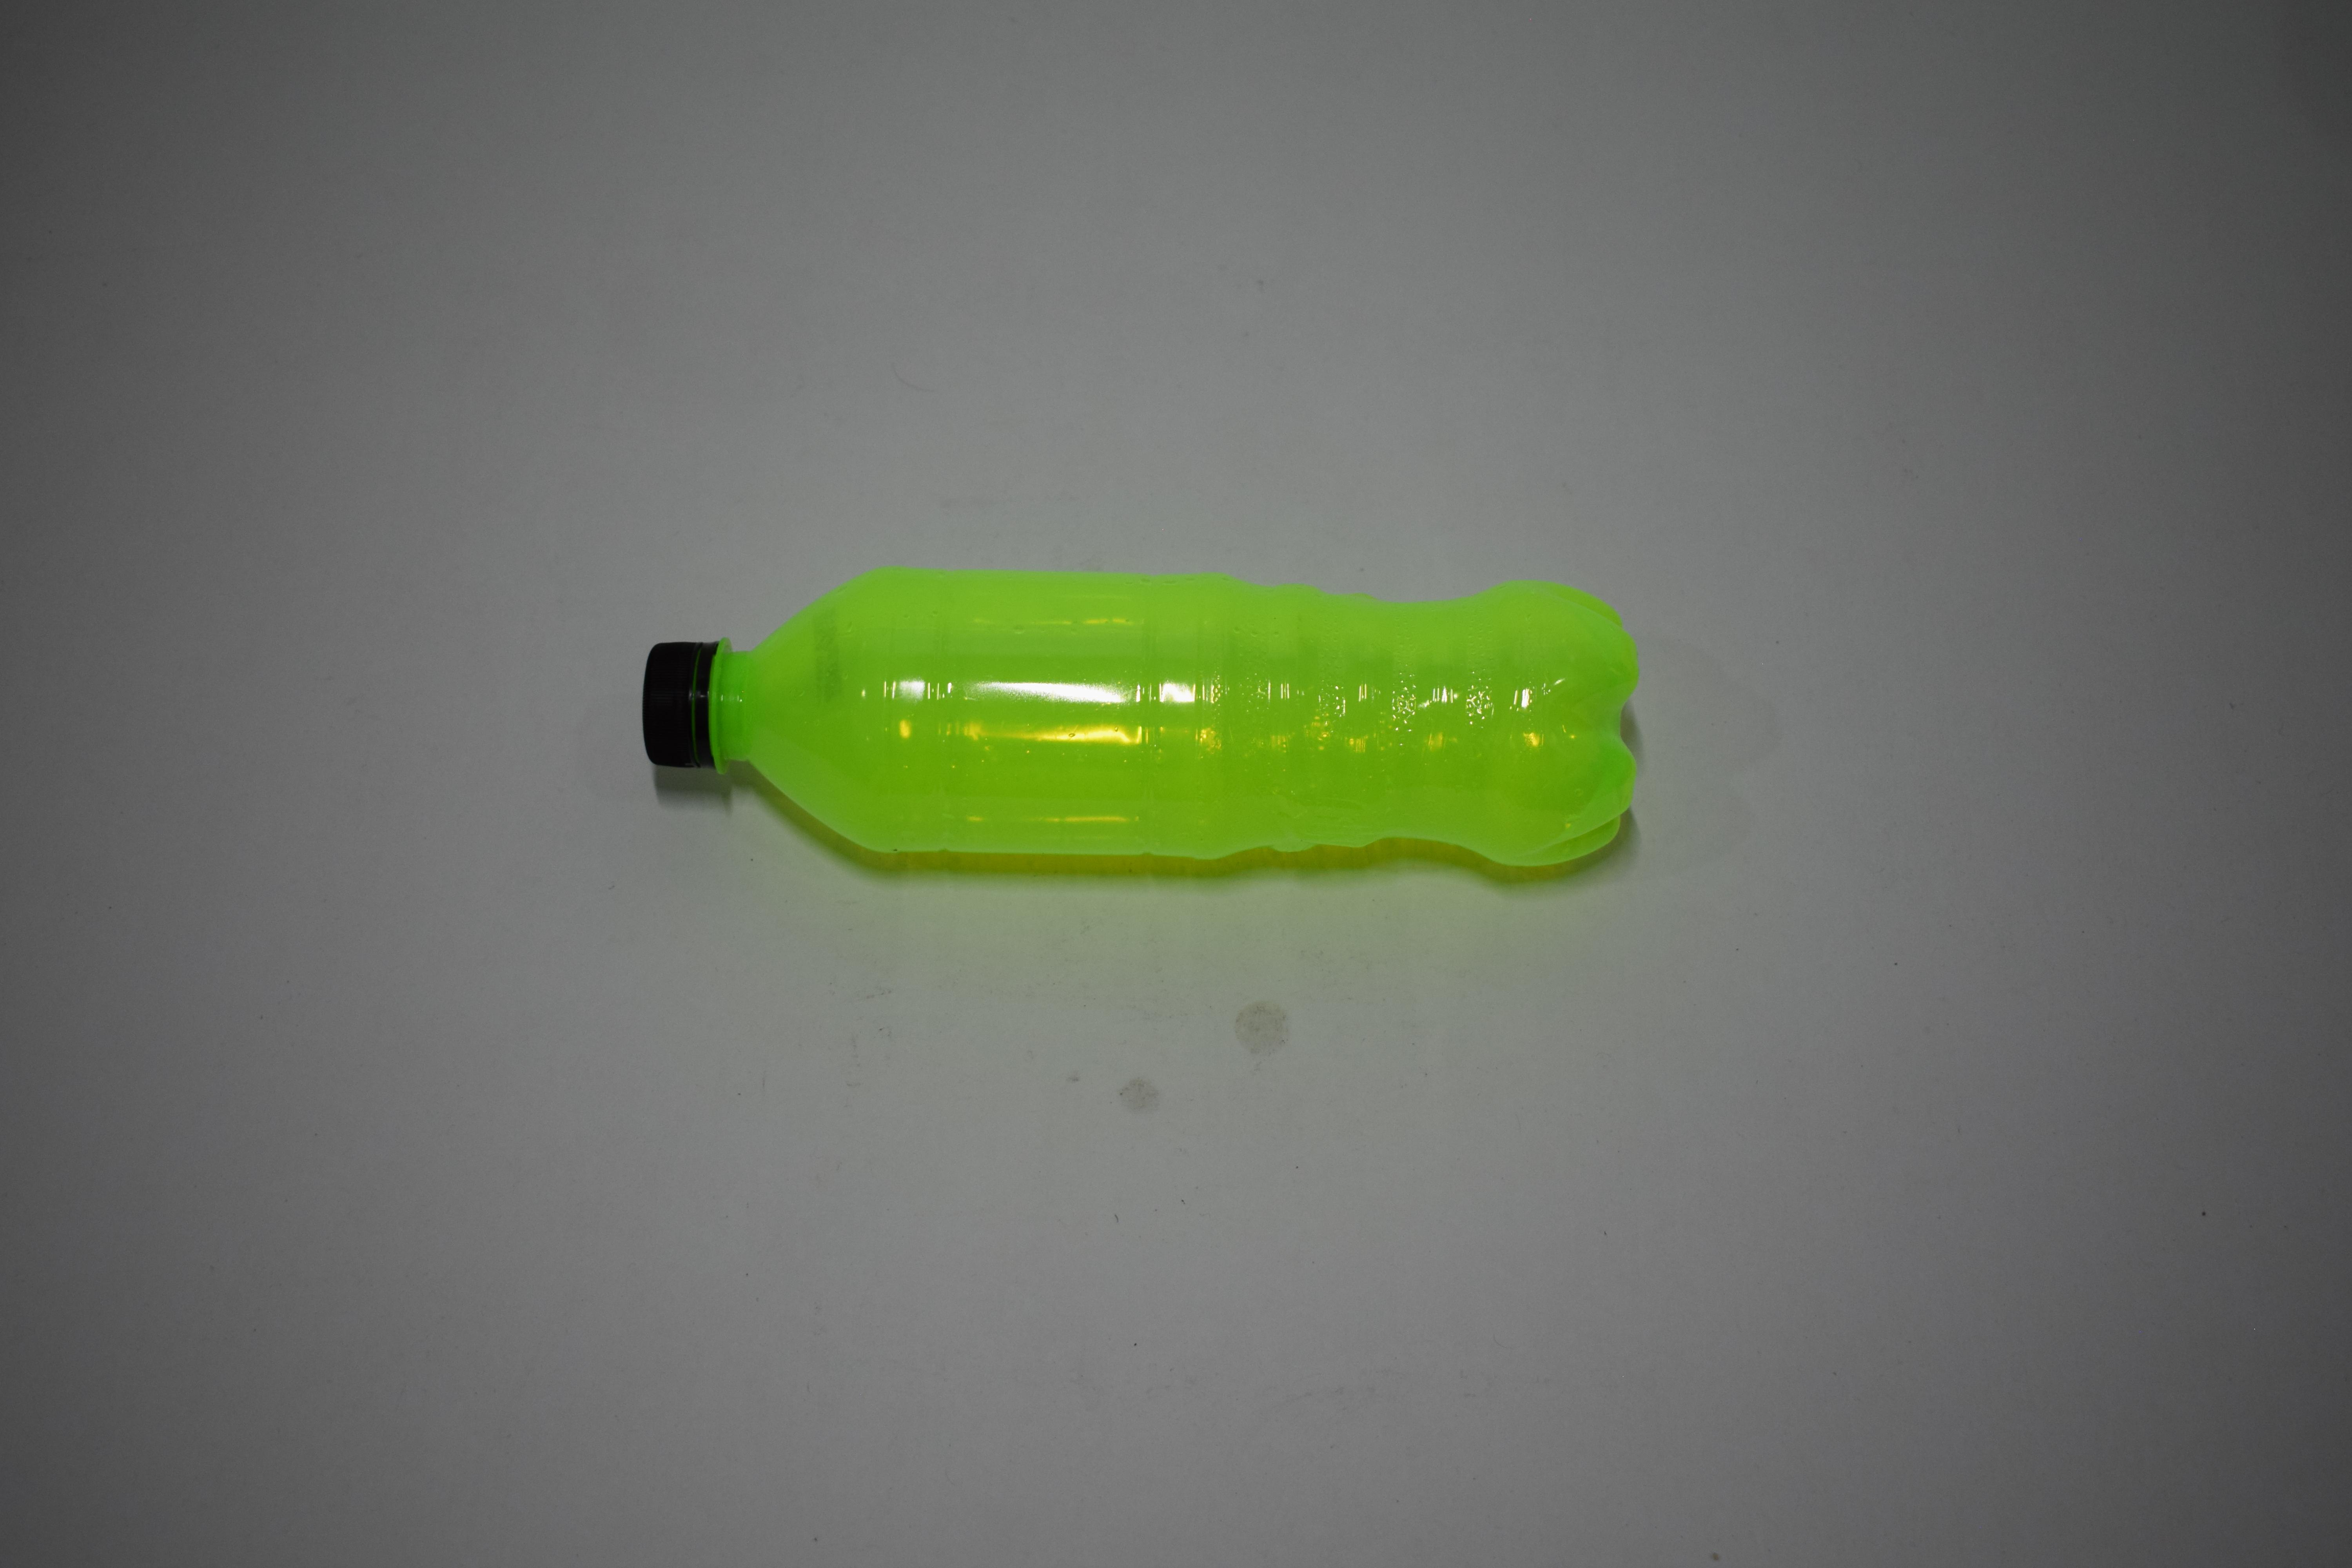bottle: (623, 474, 1638, 807)
